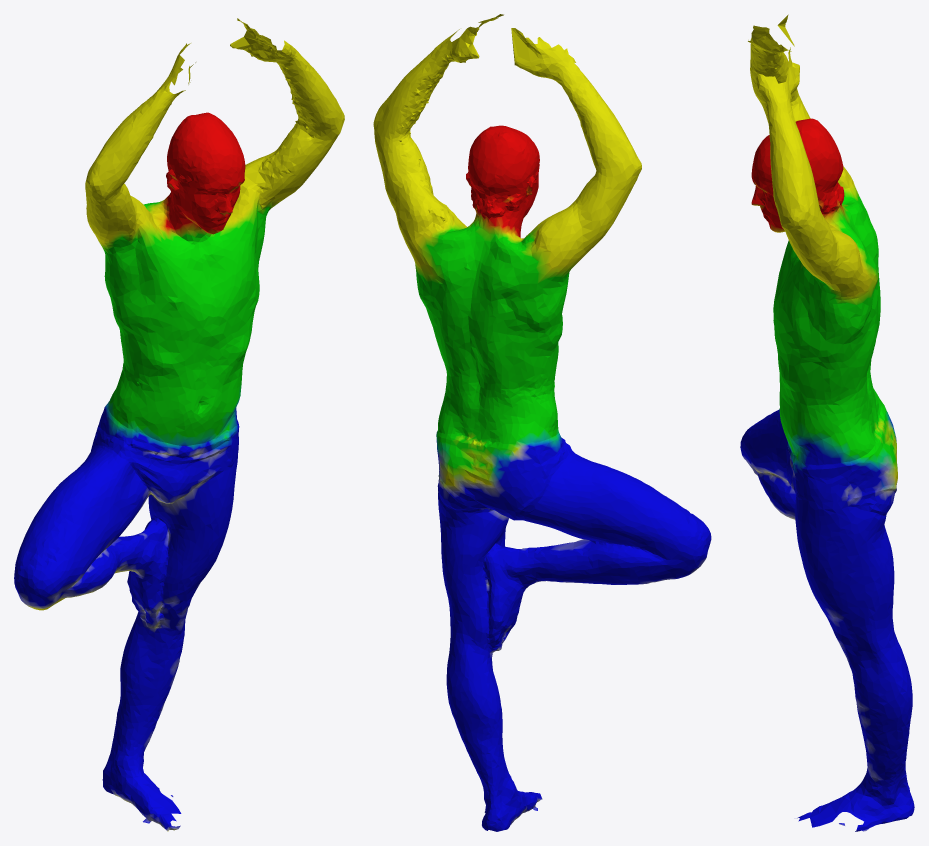
3 views of the same model, side by side, from view 1: azimuth 30°, elevation 25°; view 2: azimuth 150°, elevation 25°; view 3: azimuth 270°, elevation 25° (orthographic). The views are drawn at different scales.
Visible parts, largest first — view 1: 104.obj; view 2: 104.obj; view 3: 104.obj.
Boxes of the visible parts, x1,y1,x2,y2 form: 104.obj: (14,18,344,831); 104.obj: (373,14,711,831); 104.obj: (740,14,914,831).
Size of the model in its own units: 0.7682 by 1.75 by 0.3349.
